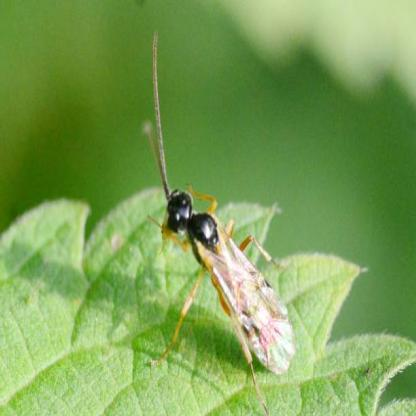sawfly: (147, 28, 298, 416)
